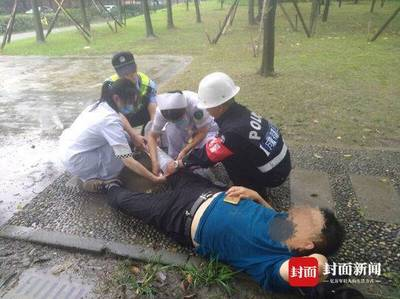fall: (90, 159, 349, 295)
